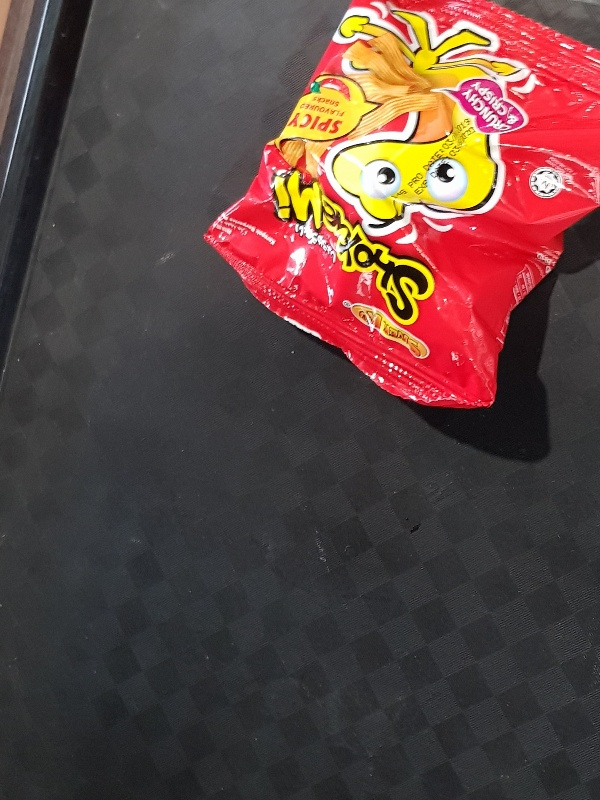ShoyueMi Spicy Flavoured Snacks: (199, 2, 600, 411)
